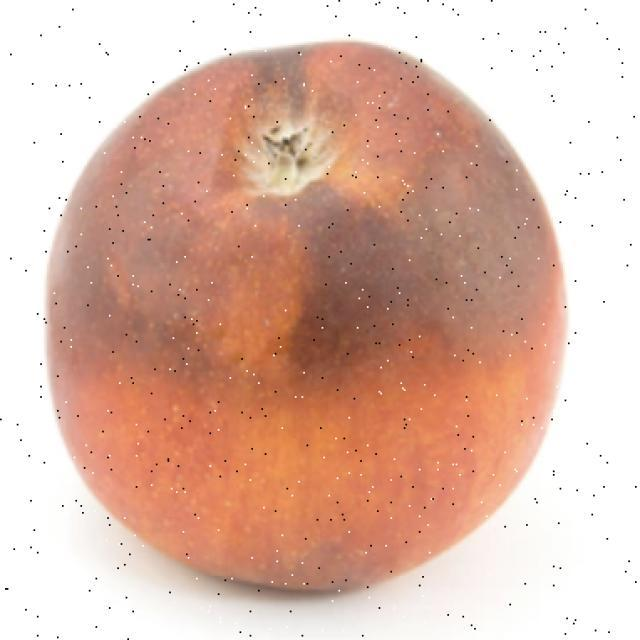Rotten: (82, 58, 548, 575)
